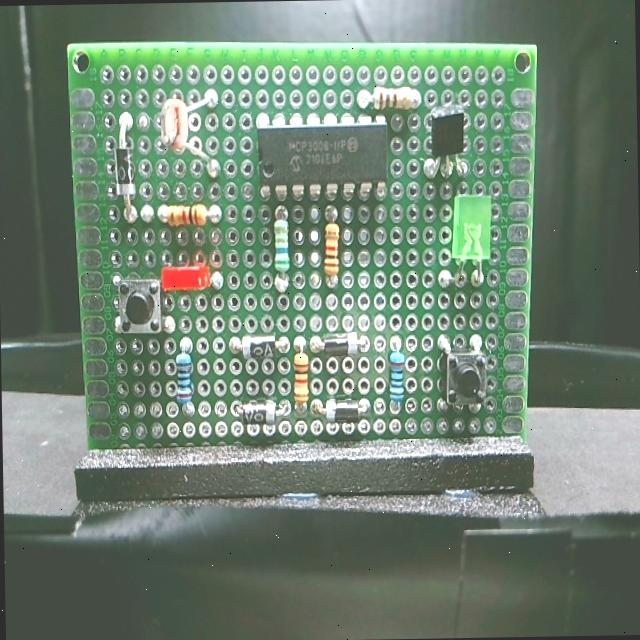IC: (255, 106, 391, 210)
cds: (155, 83, 225, 184)
diode: (111, 107, 144, 230), (227, 326, 290, 366), (309, 392, 374, 427), (306, 328, 372, 362), (228, 396, 294, 428)
led: (436, 192, 500, 296), (158, 262, 228, 300)
resistor: (154, 197, 226, 234), (269, 203, 296, 296), (318, 203, 344, 297), (351, 85, 426, 116), (289, 336, 312, 424), (171, 331, 194, 414), (386, 331, 406, 418)
switch: (432, 328, 490, 422), (109, 269, 176, 340)
transistor: (425, 104, 471, 184)
